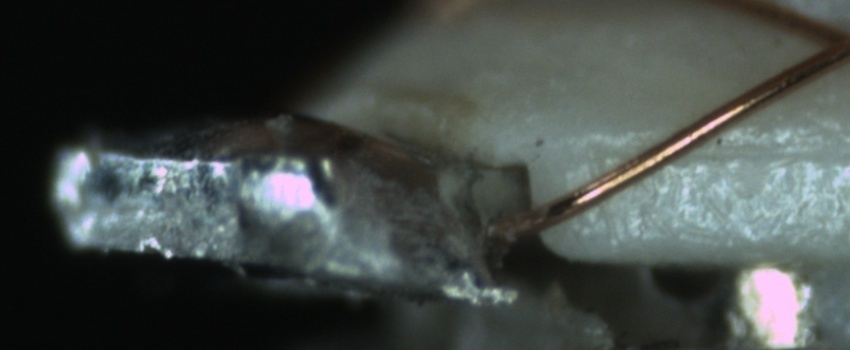CL: (798, 12, 850, 74)
DL: (608, 115, 849, 184)
